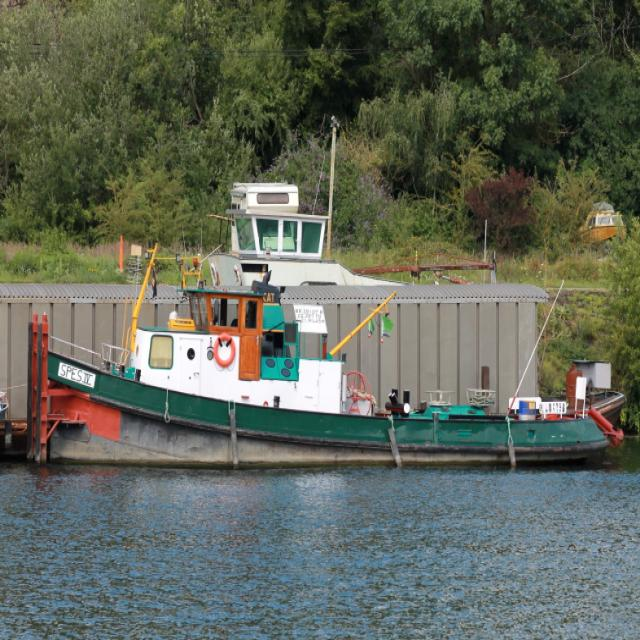tugboat: (26, 243, 630, 483)
